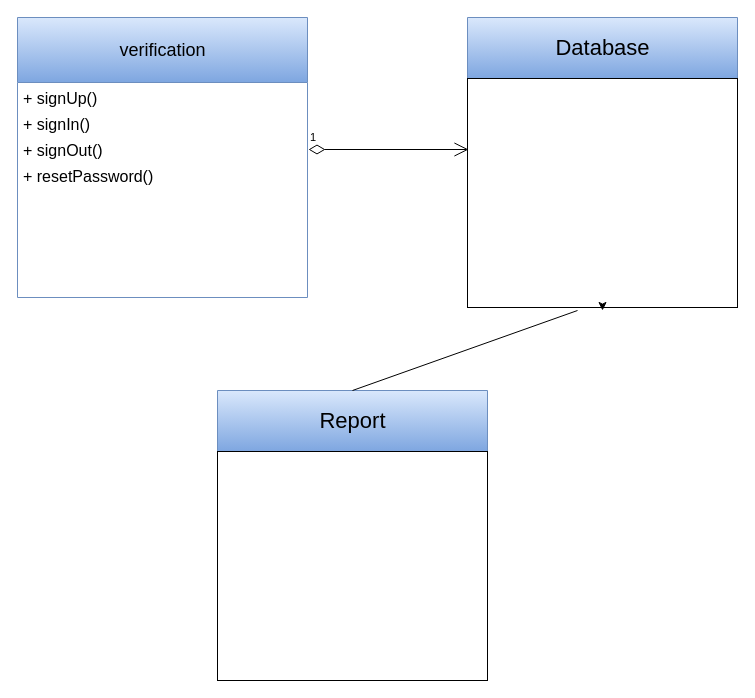
The diagram is 755 pixels wide and 698 high, and some of its shapes have lost their labels. Each missing label, with the centre of its shape:
"+ fillReport() + getReport() + setReport()" goes at (x=352, y=565).
"+ getClientInfo() + getEmployeeInfo() + setClientInfo() + setEmployeeInfo()" goes at (x=602, y=193).
